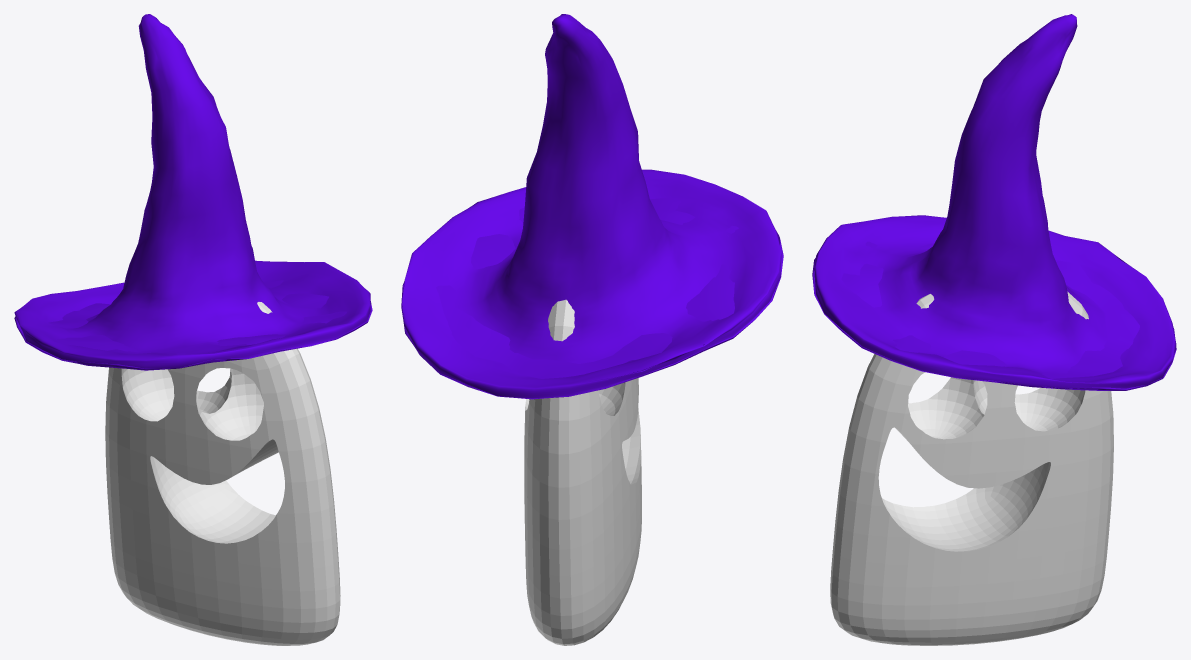
File: fantome.fbx
The picture shows the model from 3 angles, left to right: view 1: azimuth 30°, elevation 25°; view 2: azimuth 150°, elevation 25°; view 3: azimuth 270°, elevation 25°; orthographic projection. The views are drawn at different scales.
Visible parts, largest first — view 1: chapo; view 2: chapo; view 3: chapo.
Boxes of the visible parts, x1,y1,x2,y2 form: chapo: (14,14,372,645); chapo: (401,14,783,645); chapo: (812,14,1176,645).
Size of the model in its own units: 228 by 419 by 228.
